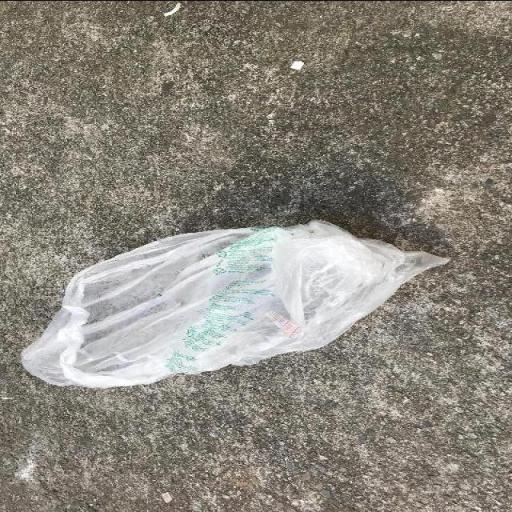plastic-bag: (18, 219, 450, 388)
